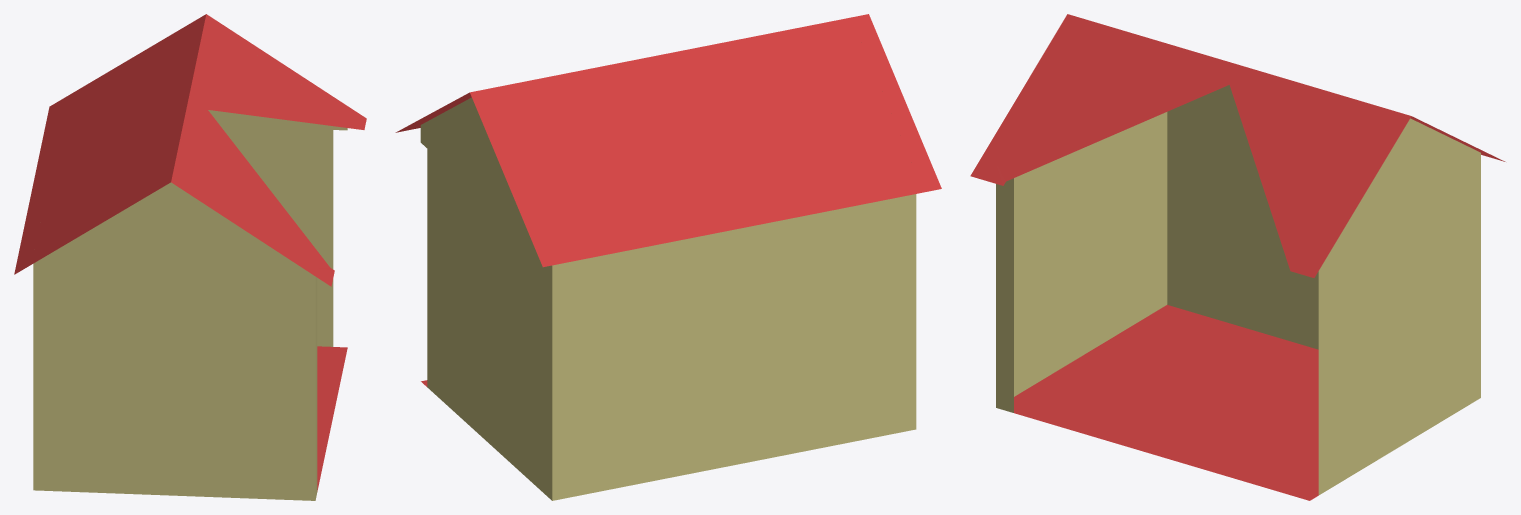
3 renders of one model, left to right at view 1: azimuth 30°, elevation 25°; view 2: azimuth 150°, elevation 25°; view 3: azimuth 270°, elevation 25°, orthographic. The views are drawn at different scales.
Size of the model in its own units: 13.97 by 14.53 by 10.08.
